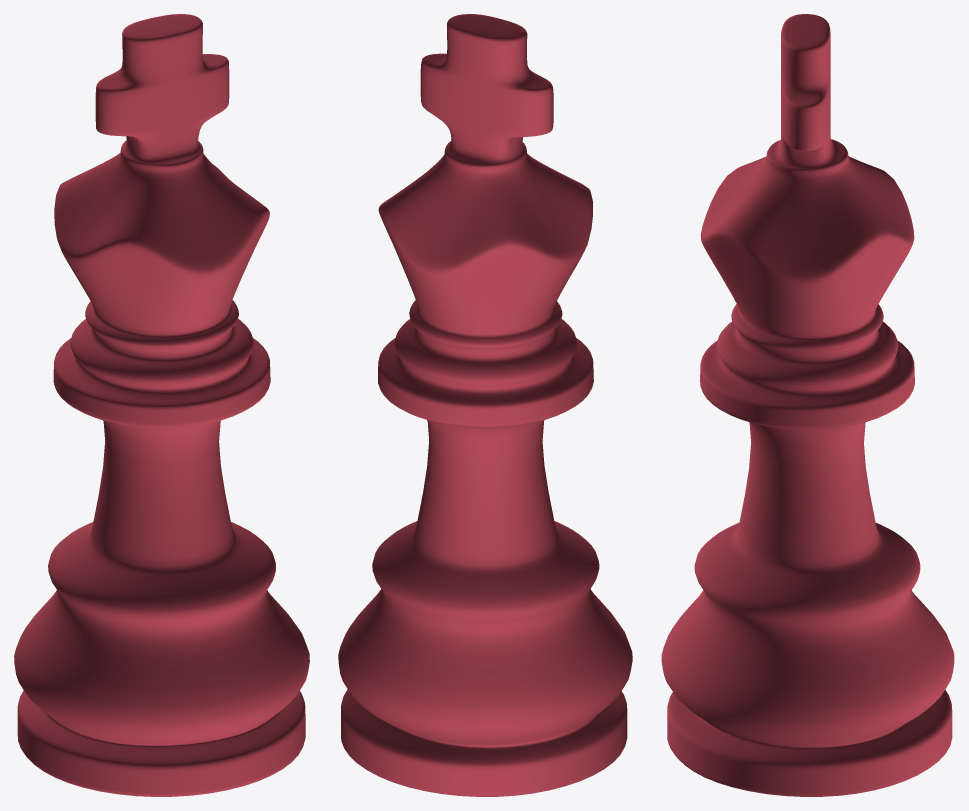
The model's file is king-b.glb.
3 views of the same model, side by side, from view 1: azimuth 30°, elevation 25°; view 2: azimuth 150°, elevation 25°; view 3: azimuth 270°, elevation 25° (orthographic).
Visible parts, largest first — view 1: Object_35; view 2: Object_35; view 3: Object_35.
Part boxes in pixels (<box>): Object_35: <box>14,14,309,796</box>; Object_35: <box>338,14,632,796</box>; Object_35: <box>661,14,954,796</box>.
Bounding box in the file's own units: 0.8178 × 2.18 × 0.8178.
